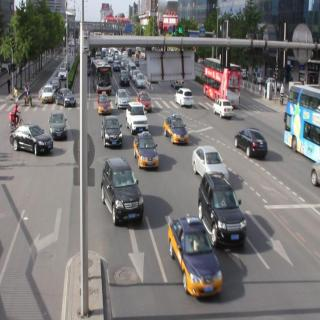BigCar: (287, 79, 320, 152)
Car: (168, 219, 213, 305), (198, 174, 246, 244), (95, 158, 144, 224), (8, 120, 59, 172), (192, 141, 231, 179), (234, 126, 269, 163), (99, 110, 128, 152), (133, 127, 161, 166), (164, 114, 187, 147), (47, 106, 68, 142), (124, 102, 146, 133), (92, 88, 110, 118), (211, 97, 232, 120), (58, 83, 76, 107), (136, 84, 153, 107), (177, 88, 194, 110), (40, 78, 52, 106), (114, 83, 126, 109)
